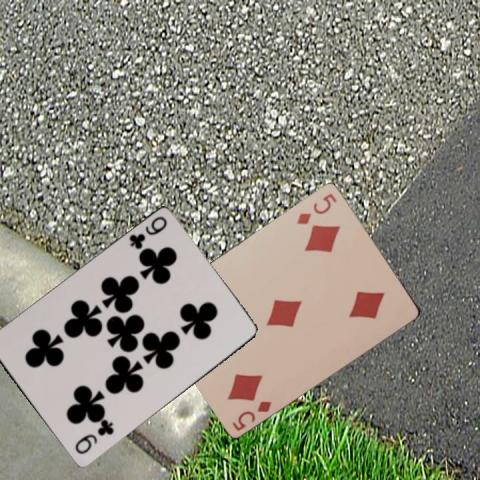5d: (293, 190, 338, 226), (229, 397, 273, 432)
9c: (126, 214, 169, 252), (72, 419, 115, 456)
